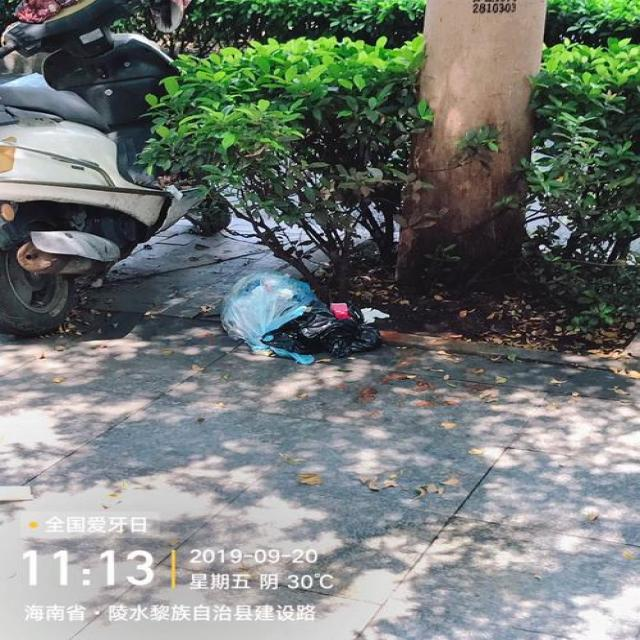garbage: (216, 270, 388, 364)
